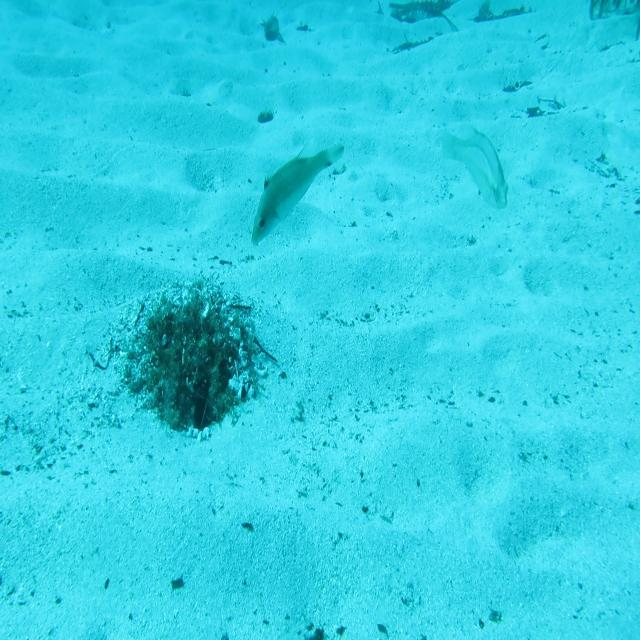LAND: (247, 143, 348, 253)
female: (425, 123, 515, 212)
nest: (135, 279, 272, 440)
